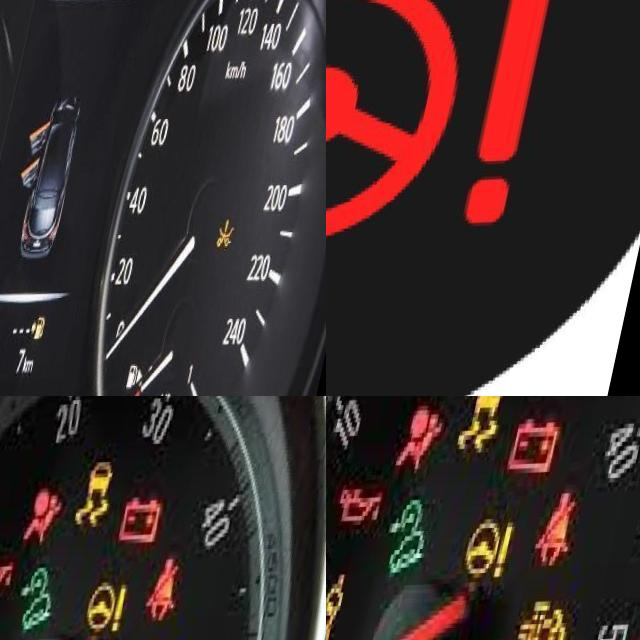Electronic Power Steering: (326, 0, 570, 249), (473, 520, 527, 585), (92, 586, 143, 638)
Seat Belt: (546, 492, 593, 568), (157, 561, 195, 622)
